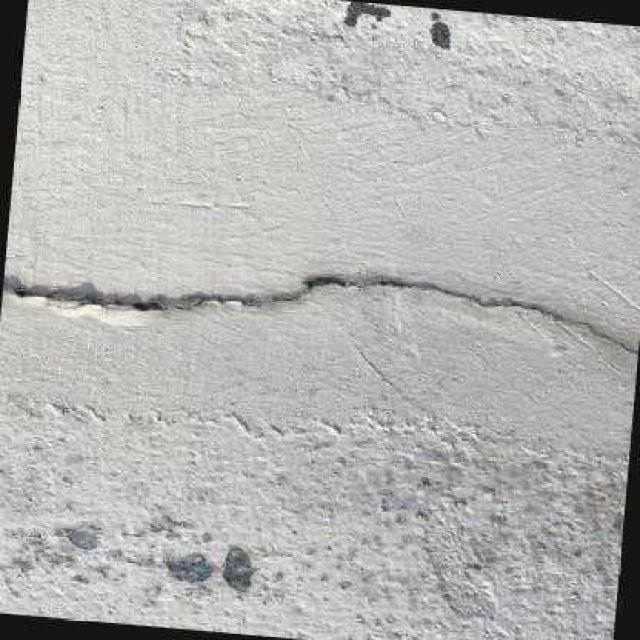D00: (1, 271, 638, 365)
